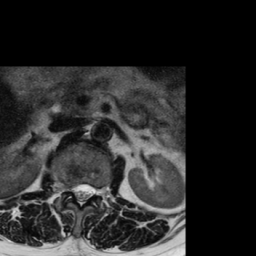CCS_normal: (78, 179, 84, 209)
LFS_normal: (94, 180, 101, 201)
LLS_normal: (84, 179, 93, 202)
RFS_normal: (63, 179, 71, 197)
RLS_normal: (71, 180, 78, 205)
